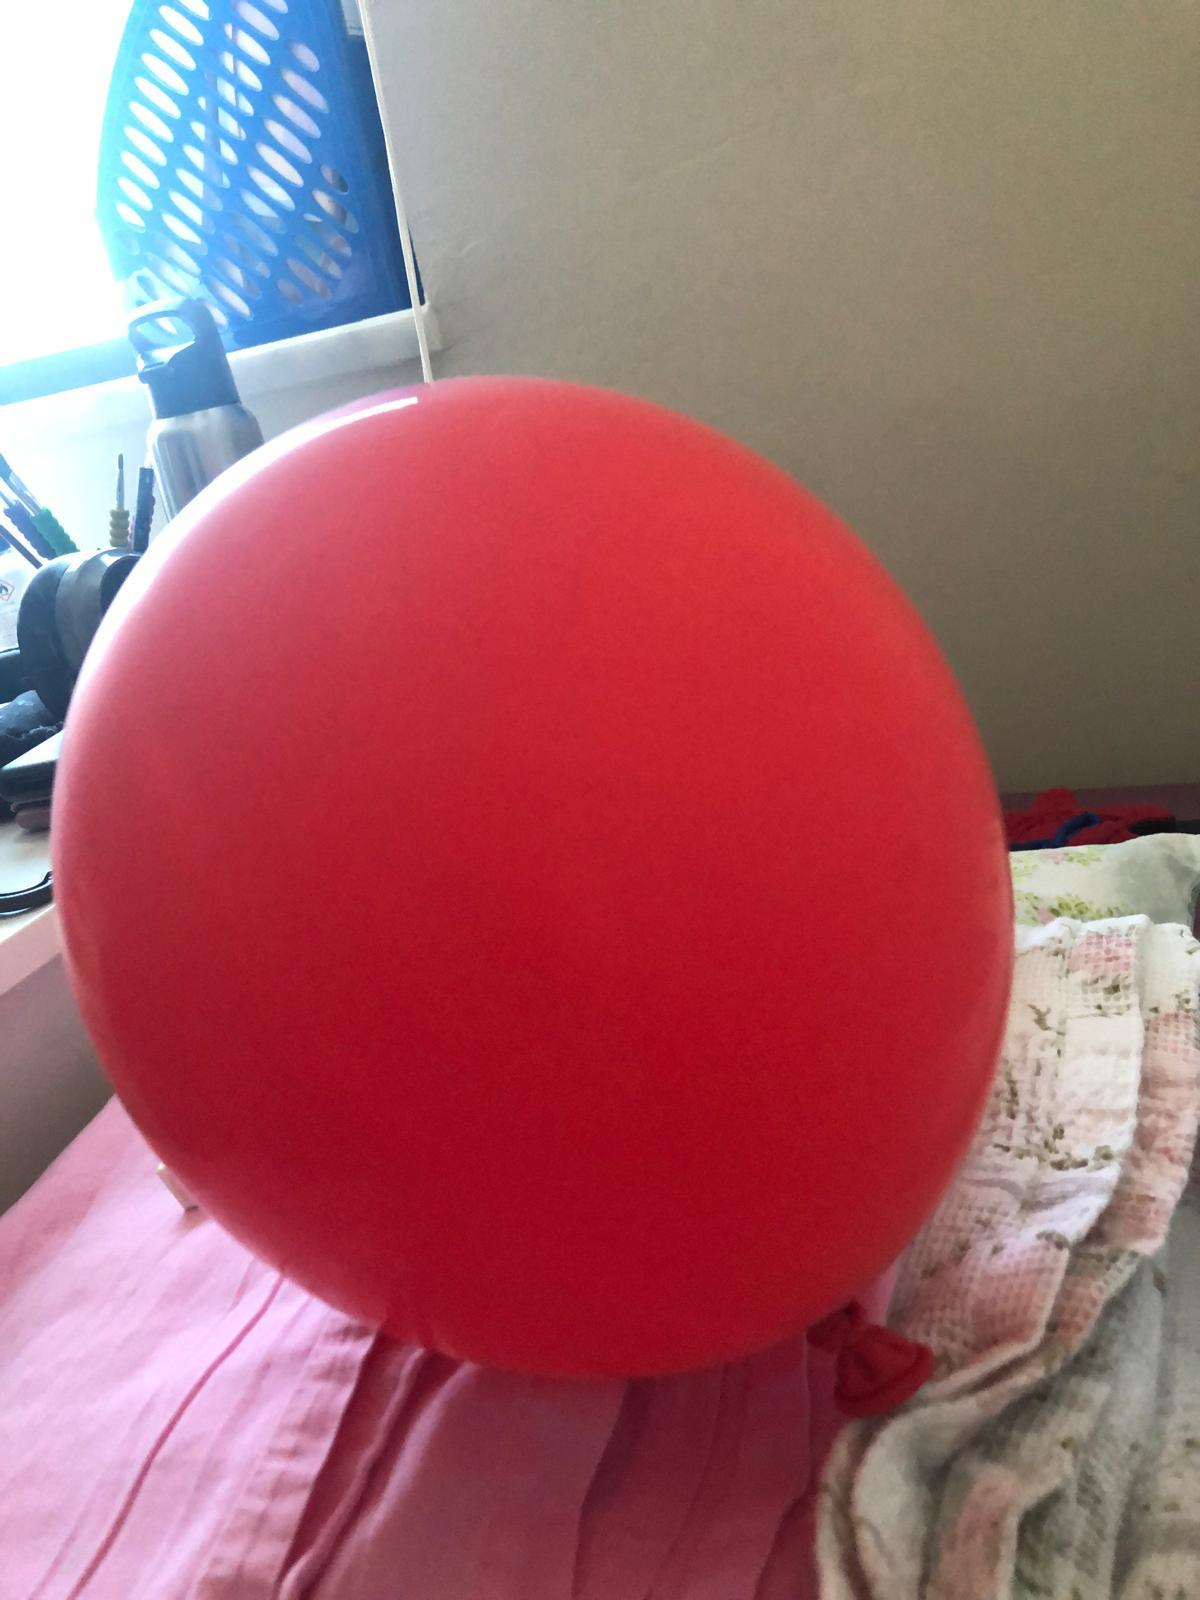red: (54, 378, 1021, 1371)
